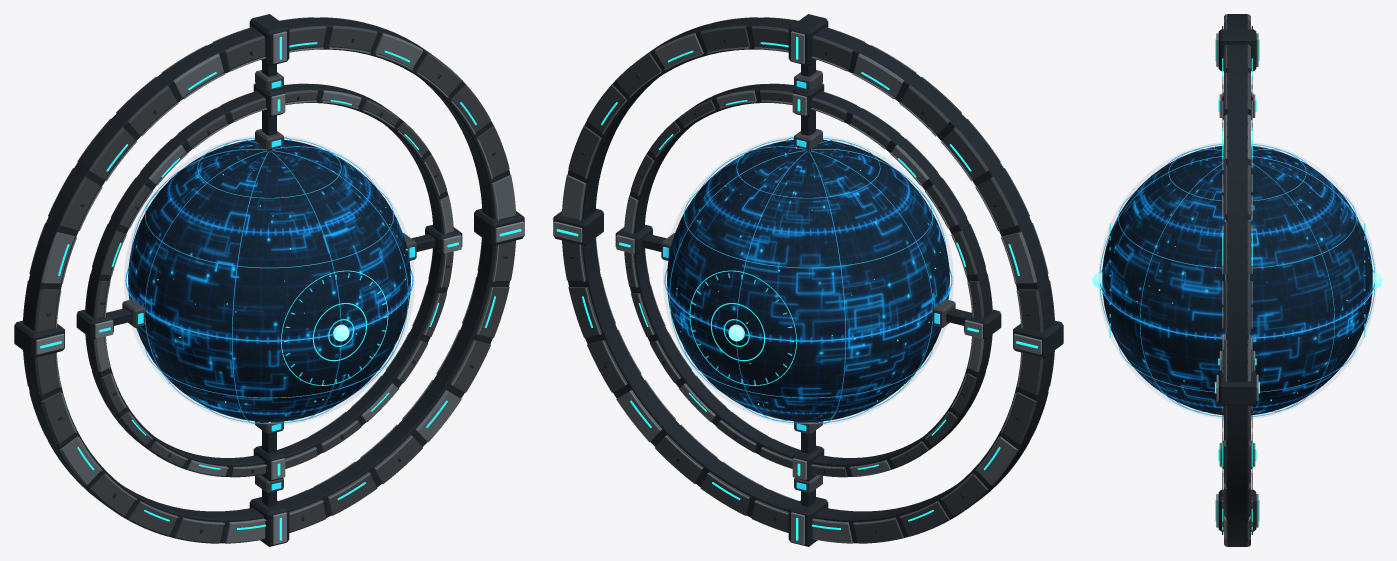
Rendered from jarvis-core.glb.
3 renders of one model, left to right at view 1: azimuth 30°, elevation 25°; view 2: azimuth 150°, elevation 25°; view 3: azimuth 270°, elevation 25°, orthographic. The views are drawn at different scales.
Visible parts, largest first — view 1: Core, OuterRing, InnerRing; view 2: Core, OuterRing, InnerRing; view 3: Core, OuterRing, InnerRing.
Boxes of the visible parts, bbox=[...] form: Core: bbox=[125, 137, 413, 423]; OuterRing: bbox=[14, 14, 524, 546]; InnerRing: bbox=[76, 83, 462, 481]; Core: bbox=[664, 137, 952, 423]; OuterRing: bbox=[553, 14, 1063, 546]; InnerRing: bbox=[615, 83, 1001, 481]; Core: bbox=[1092, 144, 1382, 416]; OuterRing: bbox=[1215, 14, 1259, 546]; InnerRing: bbox=[1218, 92, 1256, 468].
Size of the model in its own units: 4.16 by 4.16 by 2.22.
Materials: 12 (1 with a texture image).
